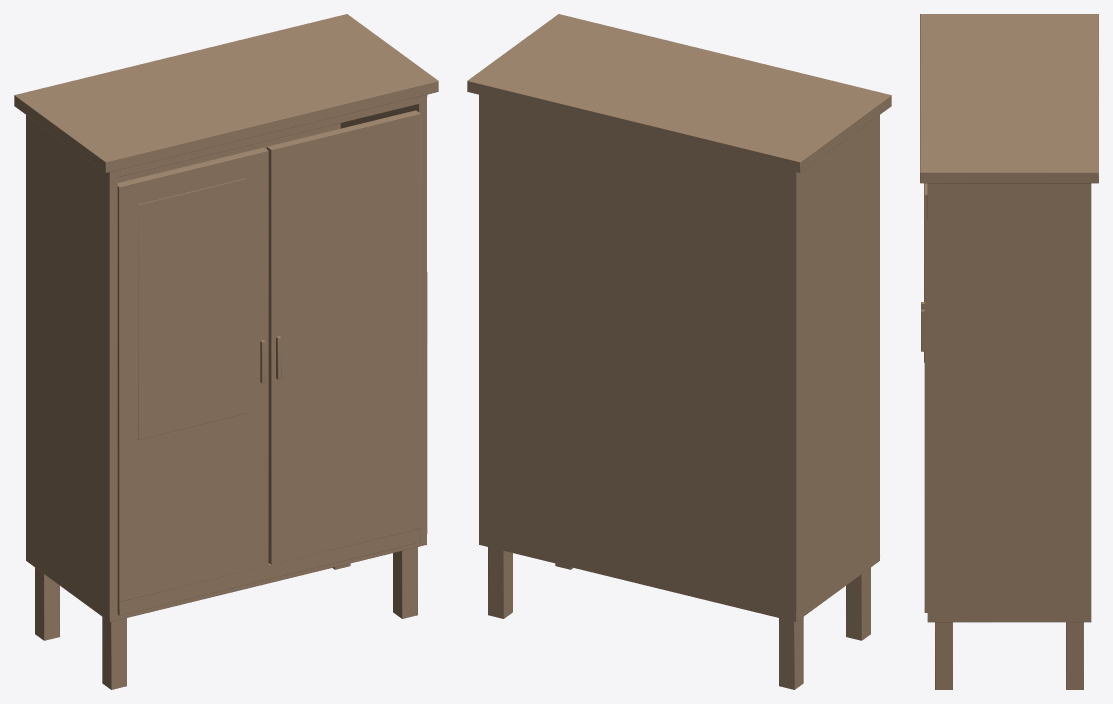
File: TuQuanAo_GamHo.glb
The picture shows the model from 3 angles, left to right: view 1: azimuth 30°, elevation 25°; view 2: azimuth 150°, elevation 25°; view 3: azimuth 270°, elevation 25°; orthographic projection. The views are drawn at different scales.
Parts seen in each view (by area): view 1: TuQuanAo_GamHo; view 2: TuQuanAo_GamHo; view 3: TuQuanAo_GamHo.
Part boxes in pixels (x1=…): TuQuanAo_GamHo: x1=14, y1=14, x2=438, y2=689; TuQuanAo_GamHo: x1=467, y1=14, x2=891, y2=689; TuQuanAo_GamHo: x1=920, y1=14, x2=1098, y2=689.
Bounding box in the file's own units: 1.26 × 1.94 × 0.6.
